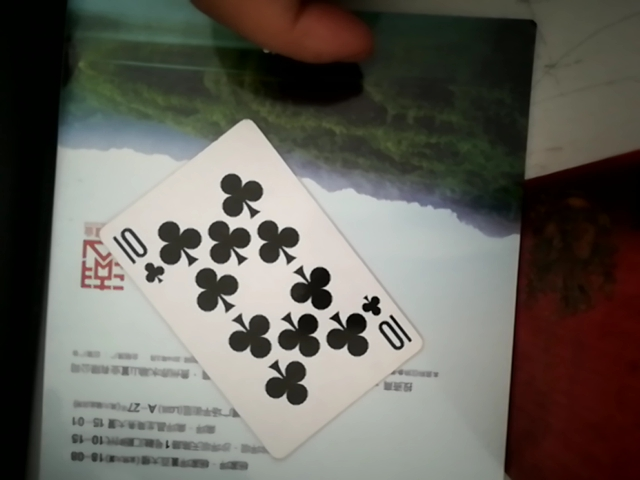mh 10: (82, 115, 421, 456)
